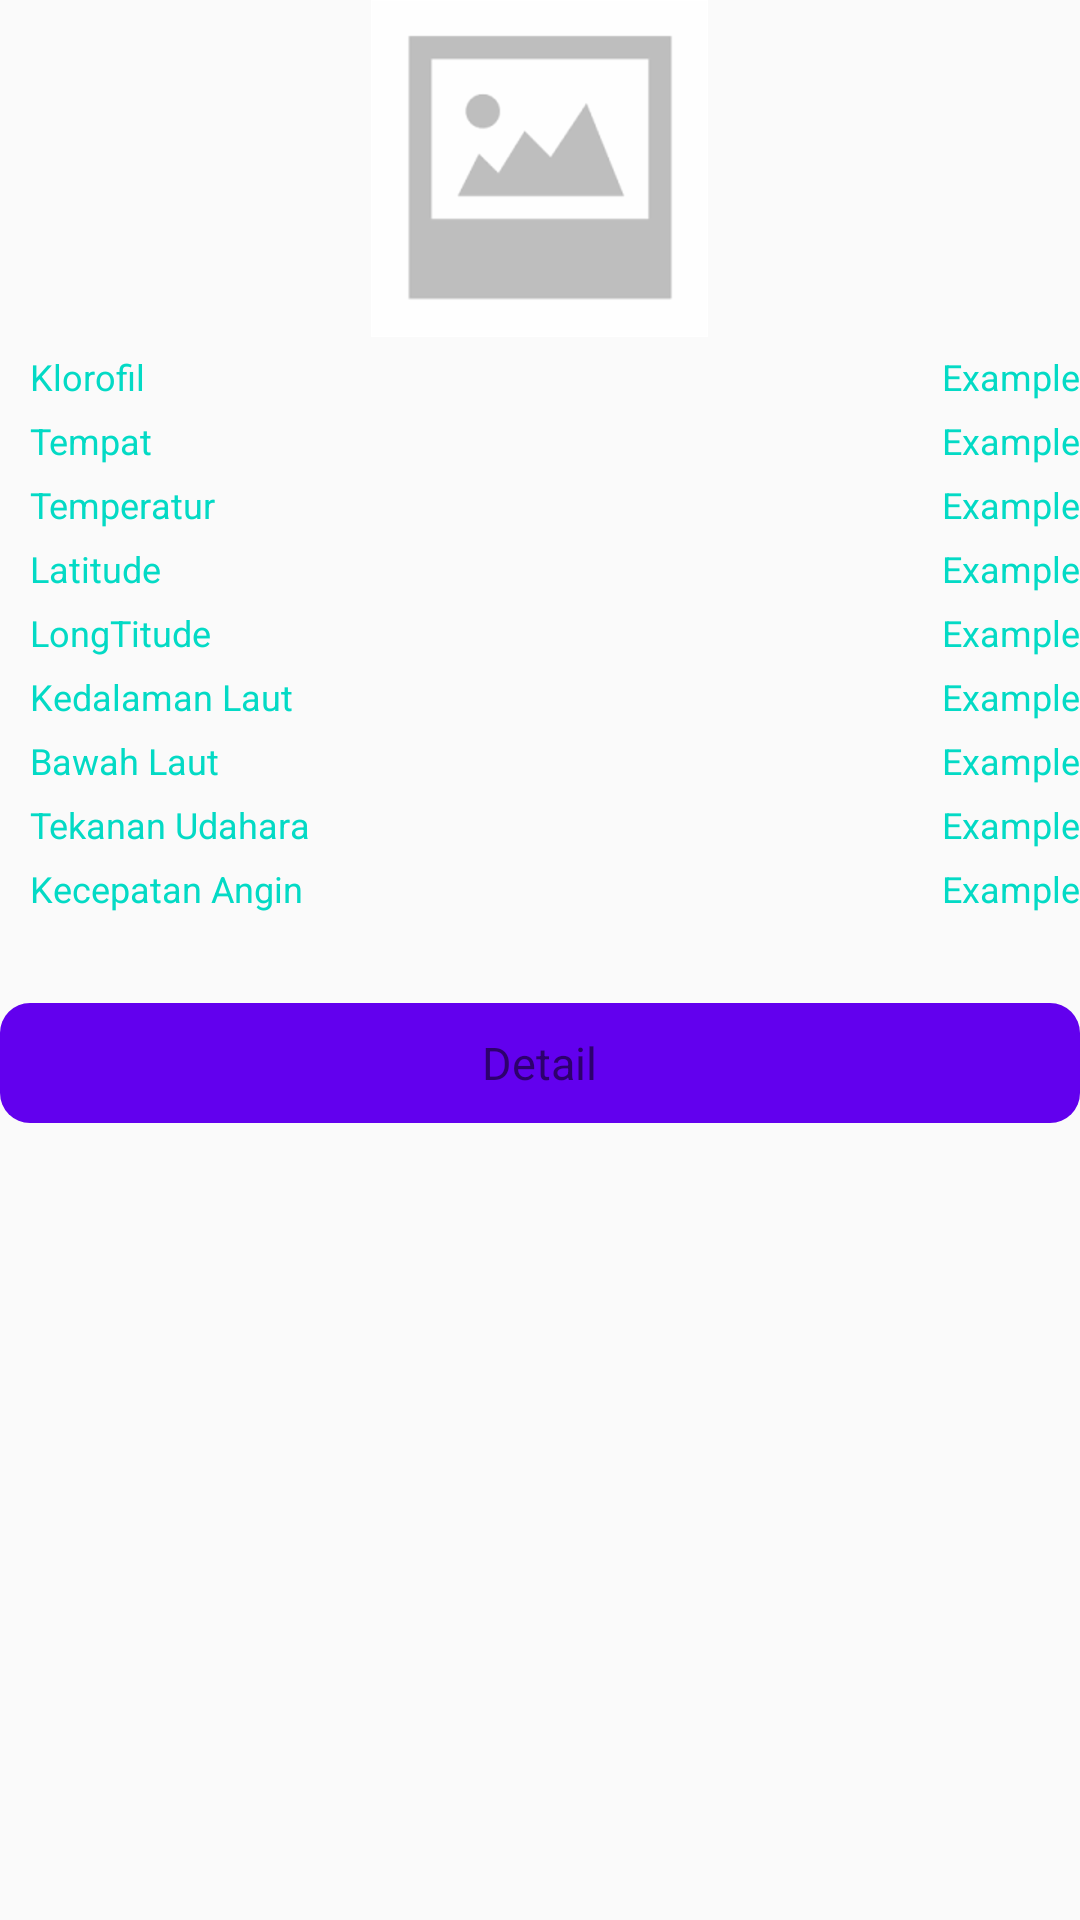

Icon bounding boxes for this 1080×1920 phone screenshot, format rect(x1, y1, x2, y2):
noimage: rect(408, 36, 672, 299)
